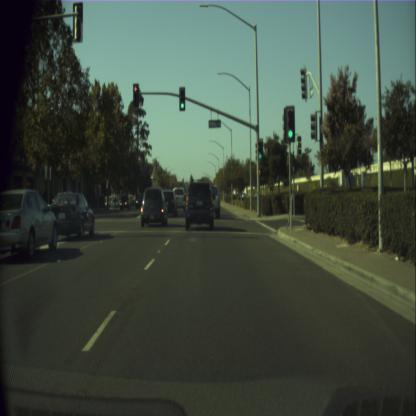Green: (285, 106, 295, 140), (179, 86, 185, 110), (257, 138, 263, 162)
RedLeft: (132, 83, 138, 106)
